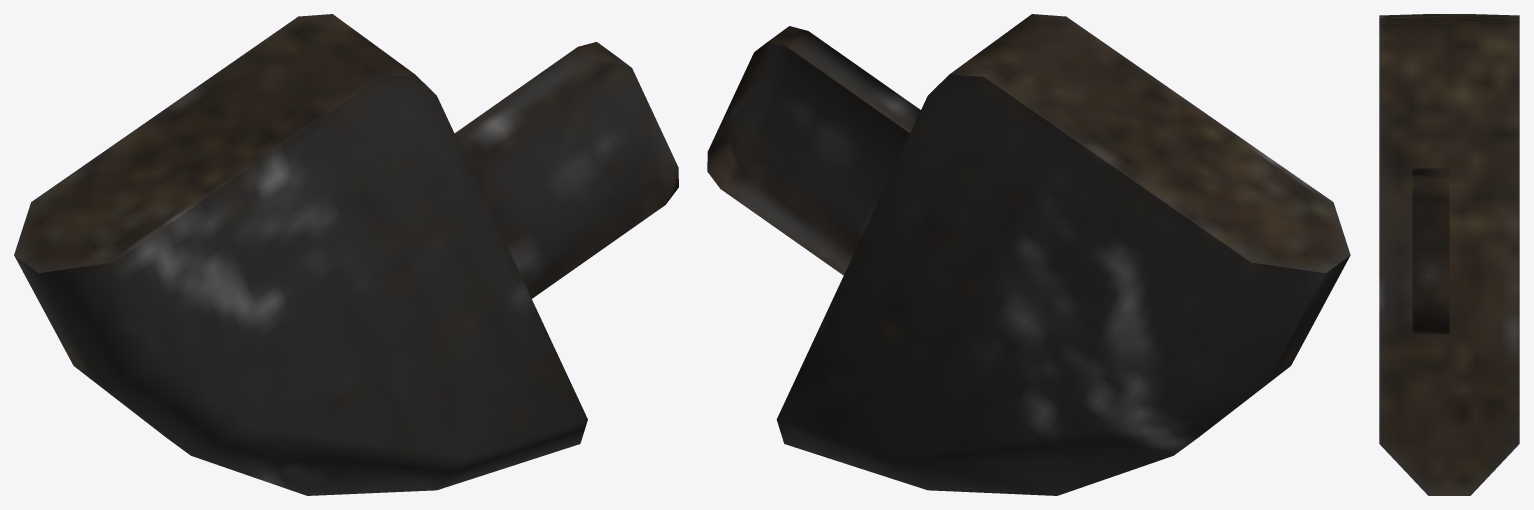
File: Box_Cutter_Cap_low.obj
3 views of the same model, side by side, from view 1: azimuth 30°, elevation 25°; view 2: azimuth 150°, elevation 25°; view 3: azimuth 270°, elevation 25° (orthographic). The views are drawn at different scales.
Bounding box in the file's own units: 0.028 × 0.0193 × 0.00634.
1 material, 1 textured.
